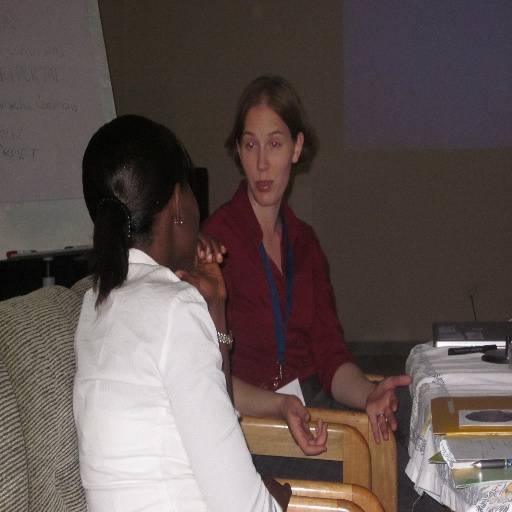hand: (174, 228, 229, 304), (278, 392, 328, 458), (365, 374, 408, 449), (262, 474, 293, 511)
